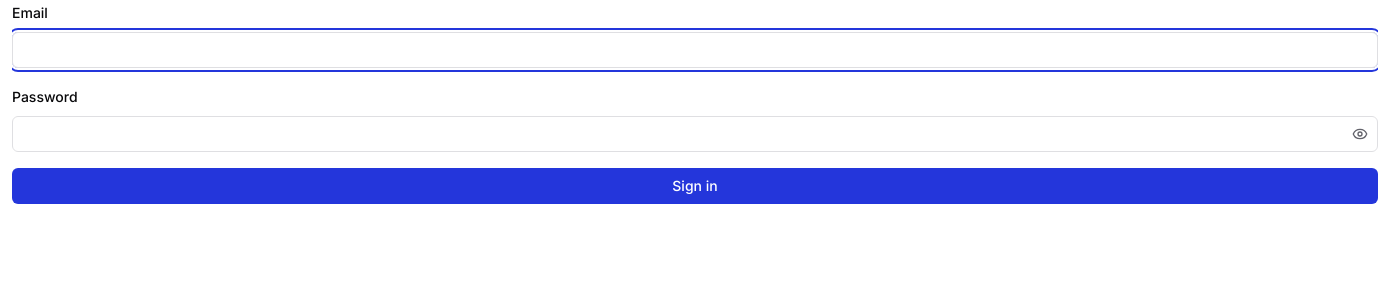
Test: LoginForm › shows validation and server errors
Click the button "Sign in": (695, 186) [12,168,1378,204]
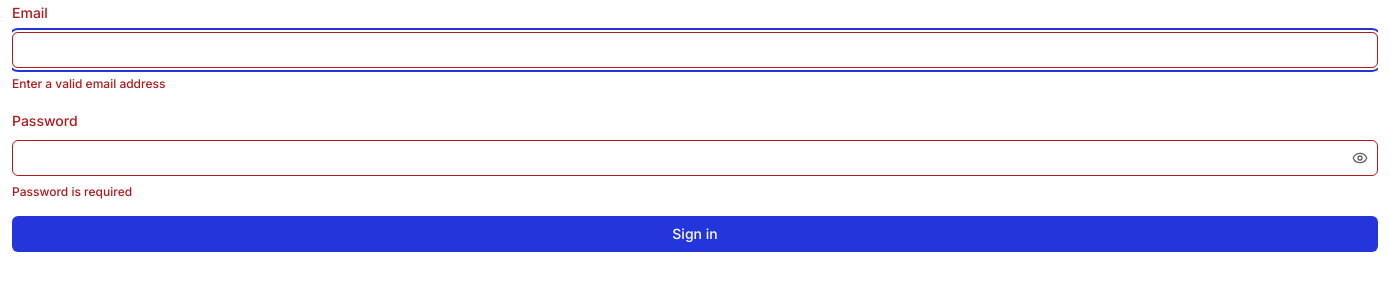
Expected: the text "Enter a valid email address" is shown, [12,76,165,91]
In the field labelled "Email": (695, 50) [12,32,1378,68], type "demo@example.com"
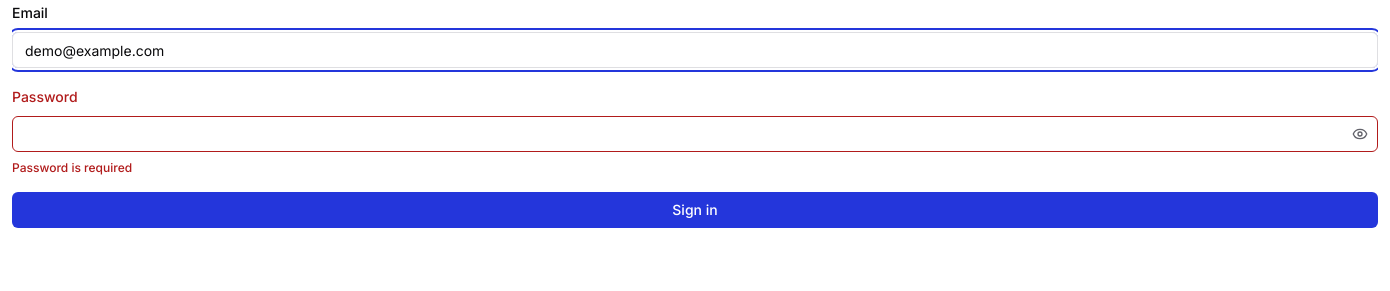
In the password field labelled "Password": (695, 134) [12,116,1378,152], type "x"
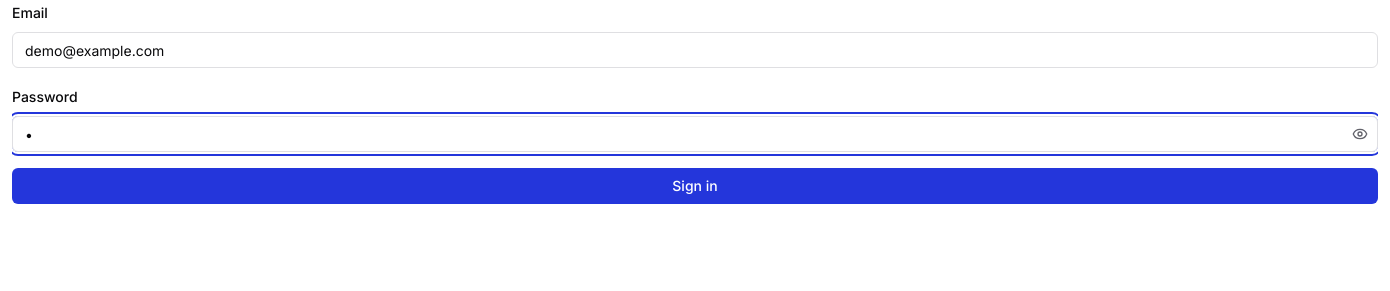
Click the button "Sign in": (695, 186) [12,168,1378,204]
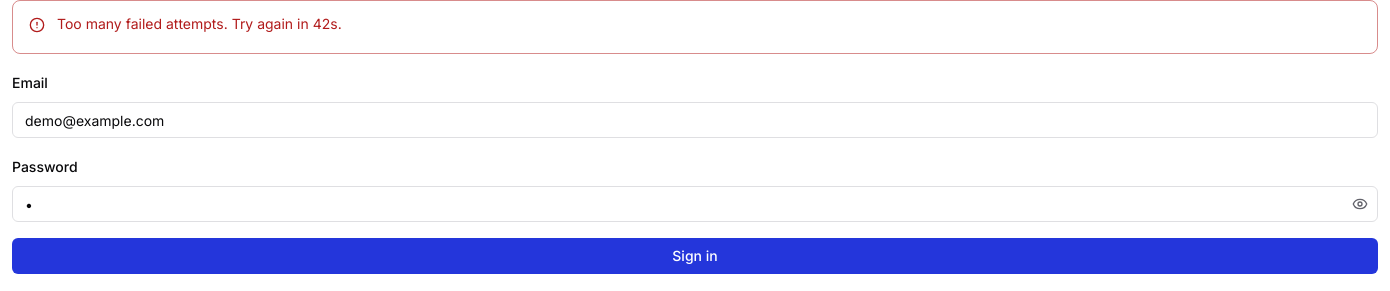
Expected: the text "Too many failed attempts. Try again in 42s." is shown, [57,15,342,32]
